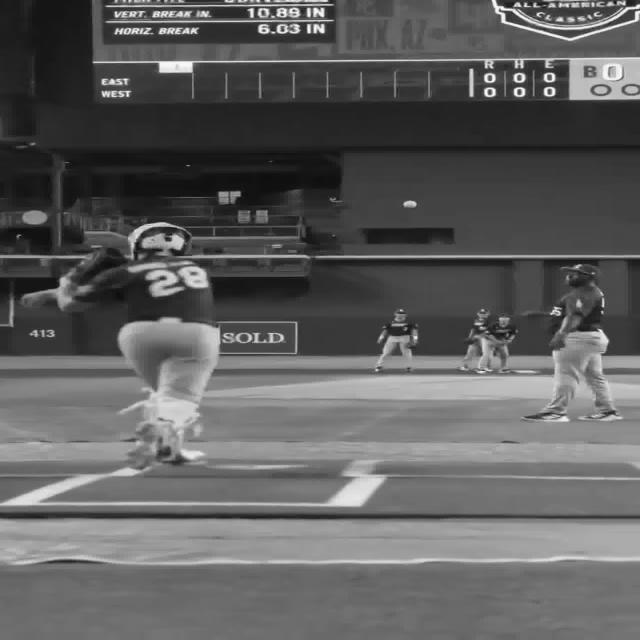base: (499, 369, 544, 374)
baseball: (402, 200, 418, 208)
shoe: (126, 440, 160, 470), (156, 448, 204, 464), (520, 412, 570, 422), (576, 411, 622, 421), (498, 368, 514, 374), (457, 365, 468, 371), (374, 366, 384, 372), (404, 367, 412, 373)
